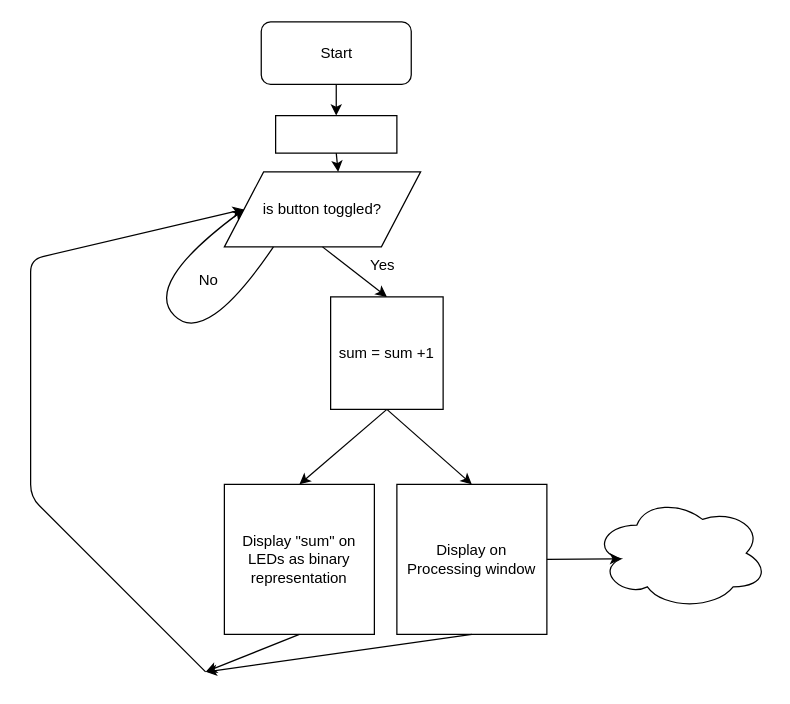
Image size: 790x704. Some labels were removed from this diagram. The centre of each missing label's shape, as x and y in pixels:
"Post on Twitter" belongs at point (680, 552).
"sum = 0" belongs at point (335, 133).
